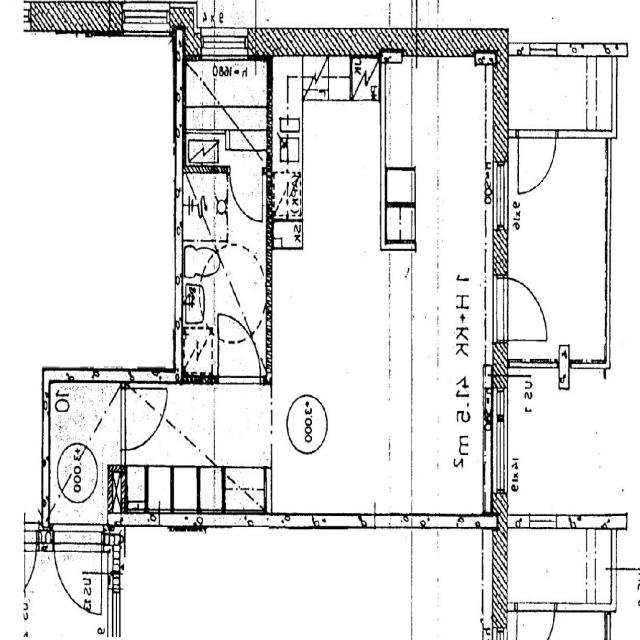door: (54, 524, 101, 622), (493, 279, 551, 340), (120, 388, 168, 450), (218, 315, 260, 384), (519, 129, 556, 192), (230, 165, 263, 222)
